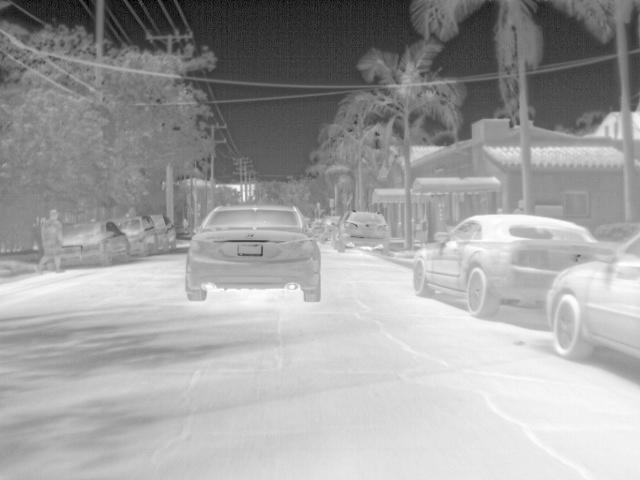car: (411, 210, 619, 319), (185, 203, 321, 303), (544, 229, 639, 363), (58, 220, 132, 268), (333, 209, 392, 252), (108, 215, 156, 256), (147, 214, 175, 251), (309, 219, 329, 238)
person: (38, 207, 62, 275)
